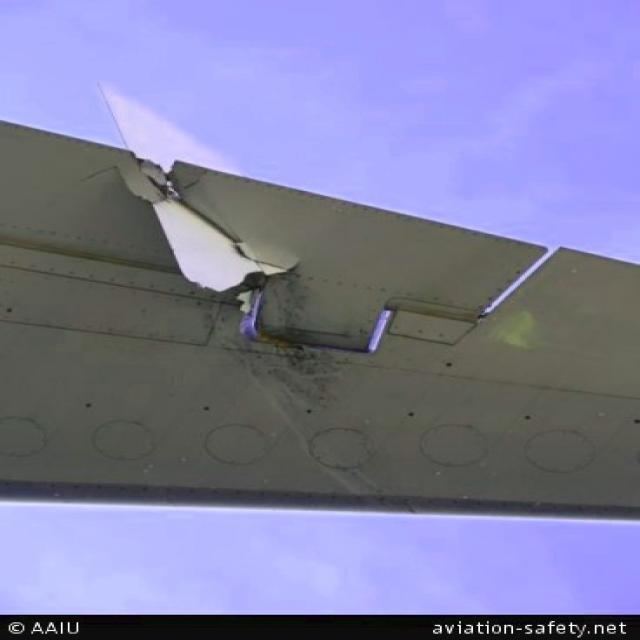crack: (125, 151, 304, 290)
